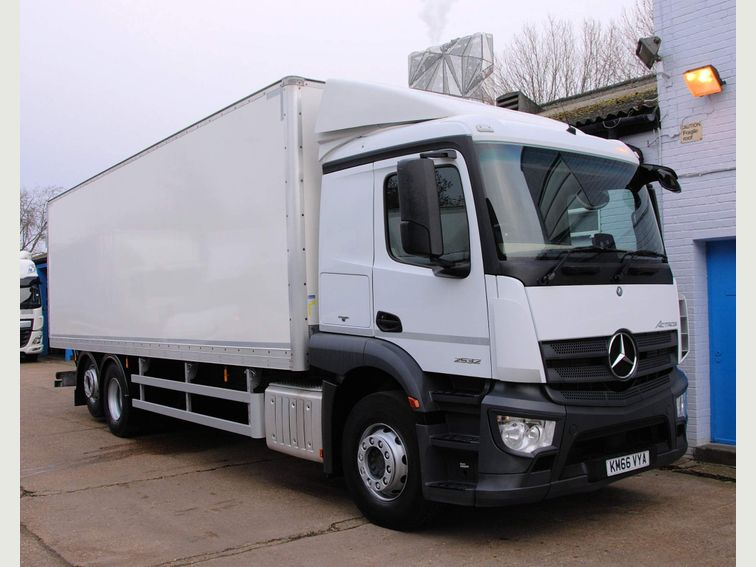Semi: (44, 75, 689, 523)
